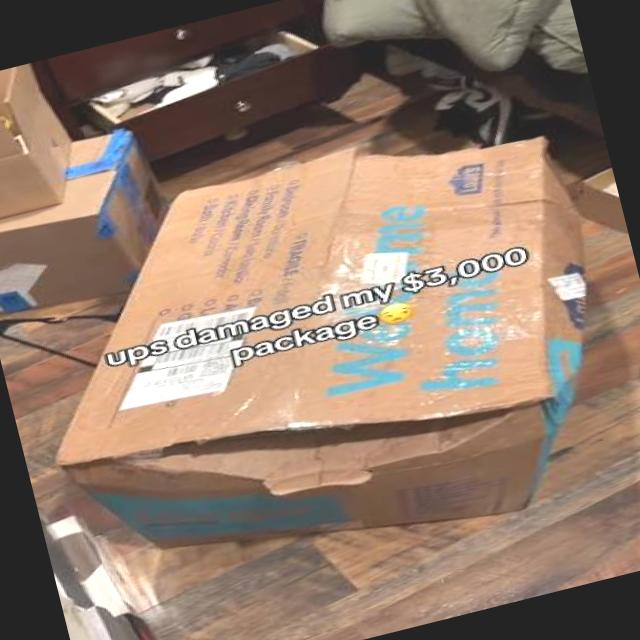package_damage: (41, 317, 592, 570)
